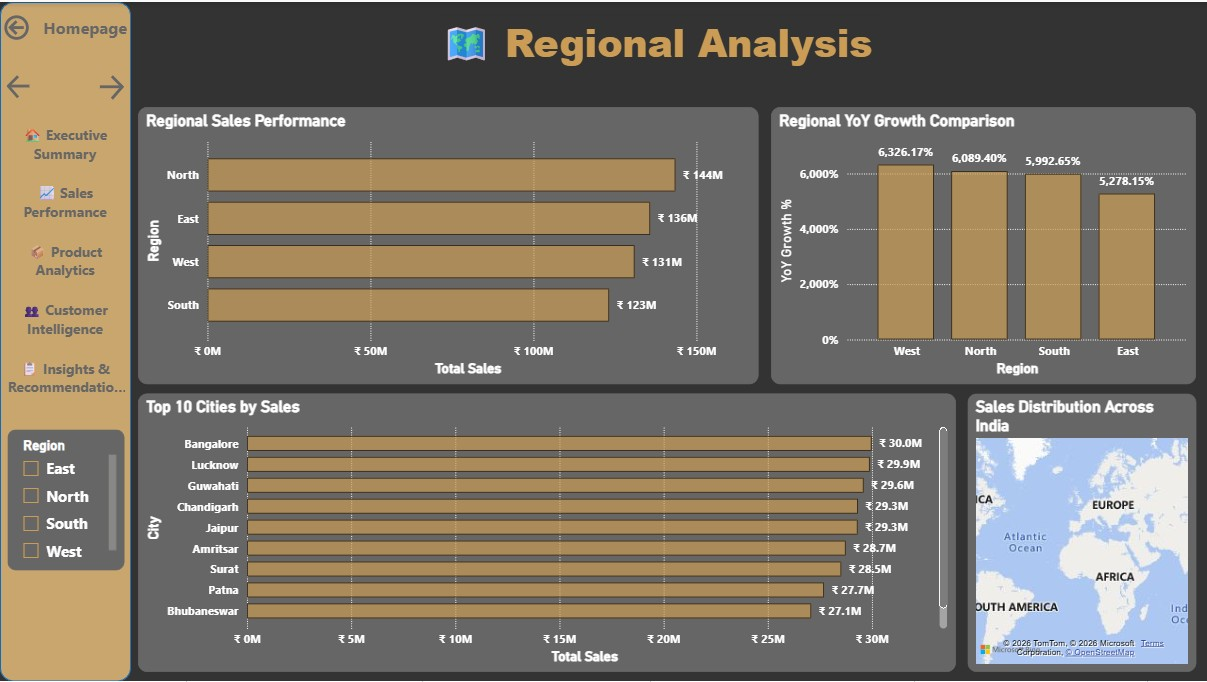

This screenshot's page, from the dashboard's own definition file:
{"tool":"powerbi","page":{"name":"🗺️ Regional Analysis","canvas":[1280,720],"ordinal":4},"visuals":[{"type":"shape","box":[0,0,139,720.4],"z":0},{"type":"clusteredBarChart","title":"Regional Sales Performance","fields":{"Category":["Ecommerce_Sales_Data_2024_2025.Region"],"Y":["Measures (2).Total Sales"]},"box":[147,111.8,658.1,293.9],"z":1000},{"type":"barChart","title":"Top 10 Cities by Sales","fields":{"Y":["Measures (2).Total Sales"],"Category":["India Ecommerce Sales Data (2024 - 2025).City"]},"box":[147,415.3,867.4,295.5],"z":2000},{"type":"clusteredColumnChart","title":"Regional YoY Growth Comparison","fields":{"Category":["Ecommerce_Sales_Data_2024_2025.Region"],"Y":["Measures (2).YoY Growth %"]},"box":[817.8,111.8,450.5,293.9],"z":3000},{"type":"textbox","title":"🗺️ Regional Analysis","box":[461.6,14.4,469.6,60.7],"z":4000},{"type":"map","title":"Sales Distribution Across India","fields":{"Category":["India Ecommerce Sales Data (2024 - 2025).City"],"Size":["Measures (2).Total Sales"]},"box":[1025.5,415.3,242.8,295.5],"z":5000},{"type":"actionButton","box":[0,9.6,139,35.1],"z":6000},{"type":"actionButton","box":[3.2,73.5,39.9,33.5],"z":7000},{"type":"actionButton","box":[100.6,73.5,46.3,35.1],"z":8000},{"type":"pageNavigator","box":[0,119.3,138.4,314.9],"z":9000},{"type":"slicer","fields":{"Values":["Ecommerce_Sales_Data_2024_2025.Region"]},"box":[8,453.3,124.1,149.5],"z":10000}]}

Visuals, with their boxes on the page's 1280x720 design canvas (x1, y1, x2, y2). These are canvas units, not pixel positions in the 1207x682 screenshot, which may show the page scaled, cropped or inside an application window:
shape: 0:0:139:720
"Regional Sales Performance" clusteredBarChart: 147:112:805:406
"Top 10 Cities by Sales" barChart: 147:415:1014:711
"Regional YoY Growth Comparison" clusteredColumnChart: 818:112:1268:406
"🗺️ Regional Analysis" textbox: 462:14:931:75
"Sales Distribution Across India" map: 1026:415:1268:711
actionButton: 0:10:139:45
actionButton: 3:74:43:107
actionButton: 101:74:147:109
pageNavigator: 0:119:138:434
slicer - Ecommerce_Sales_Data_2024_2025.Region: 8:453:132:603
